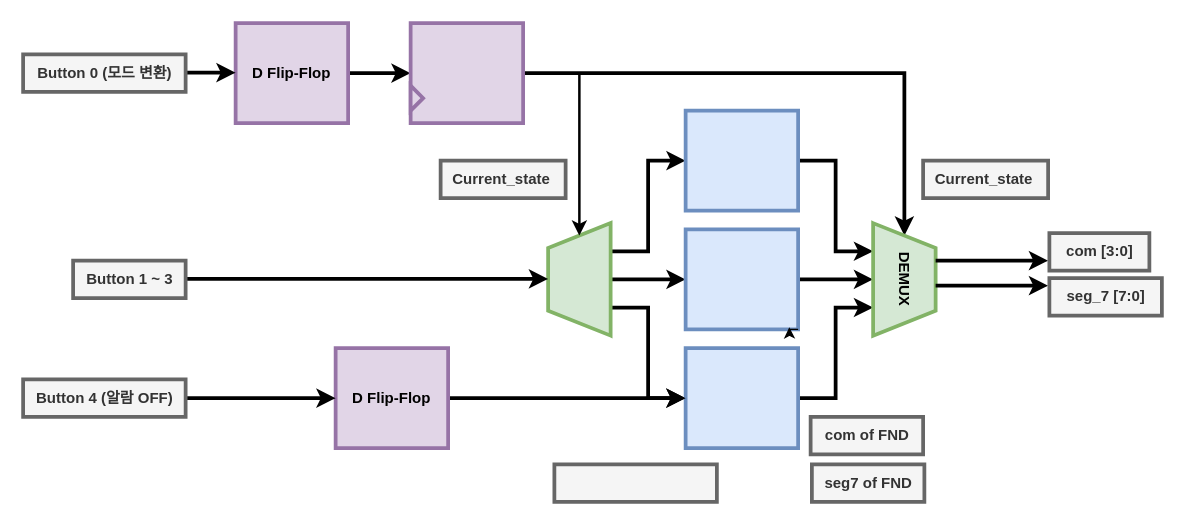
The diagram is 1185 pixels wide and 525 high, and some of its shapes have lost their labels. Each missing label, with the centre of its shape:
"Button Value [2:0]" goes at [635,482].
"Cooking Watch Mode" goes at [741,397].
"MUX" goes at [579,279].
"Ring-Counter" goes at [466,72].
"Stop Watch Mode" goes at [741,279].
"Watch Mode" goes at [741,160].
